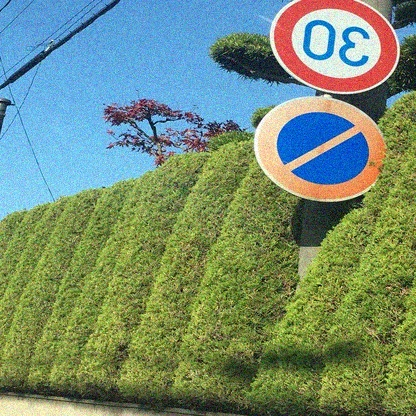Prohibition_sign: (251, 99, 387, 209)
Speed_sign: (261, 1, 416, 93)
